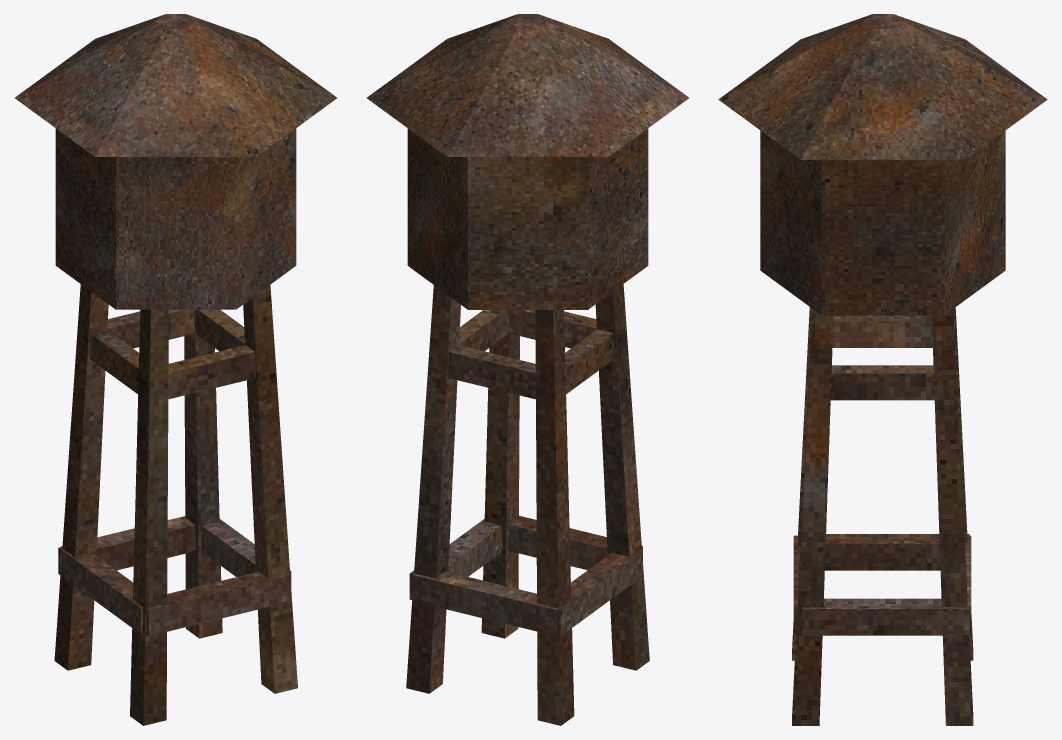
Rendered from water_tower.glb.
The picture shows the model from 3 angles, left to right: view 1: azimuth 30°, elevation 25°; view 2: azimuth 150°, elevation 25°; view 3: azimuth 270°, elevation 25°; orthographic projection.
Visible parts, largest first — view 1: Cylinder, Cube; view 2: Cylinder, Cube; view 3: Cylinder, Cube.
Part boxes in pixels (bbox=[...]): Cylinder: bbox=[15, 14, 336, 309]; Cube: bbox=[54, 284, 297, 725]; Cylinder: bbox=[367, 14, 688, 309]; Cube: bbox=[406, 284, 649, 725]; Cylinder: bbox=[718, 14, 1047, 315]; Cube: bbox=[792, 307, 973, 725].
Size of the model in its own units: 3.13 by 8.06 by 3.61.
Materials: 1 (1 with a texture image).
